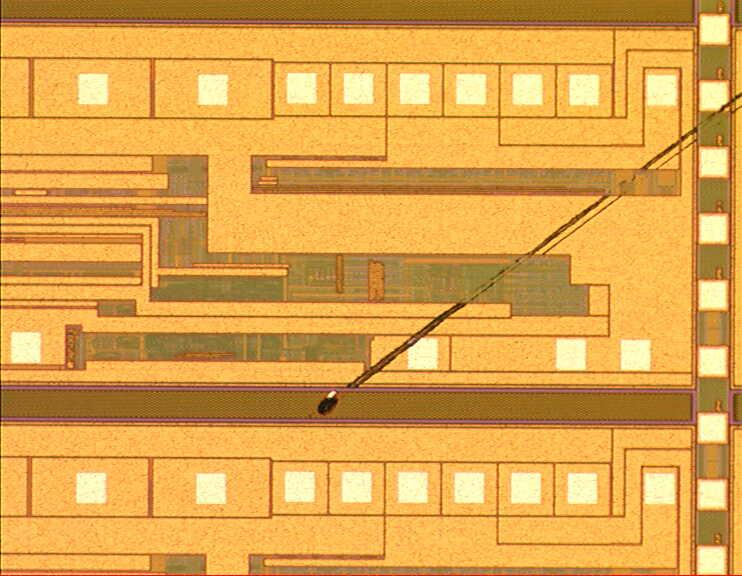SCRATCH: (273, 88, 742, 456)
